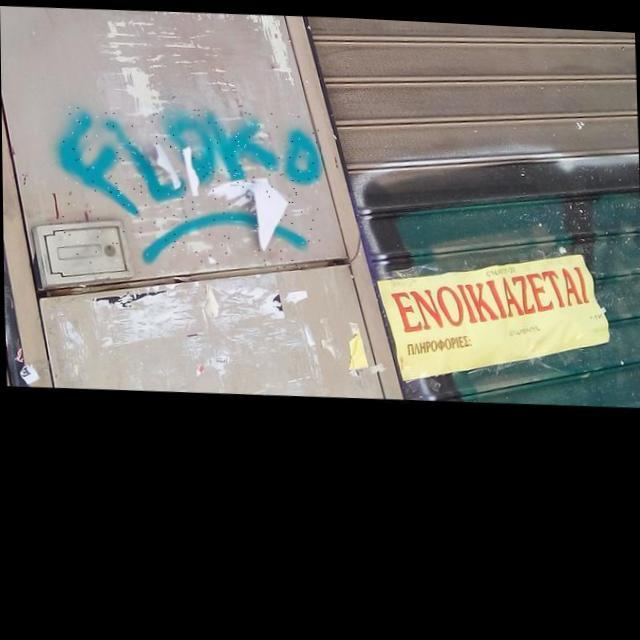-: (58, 99, 324, 272)
